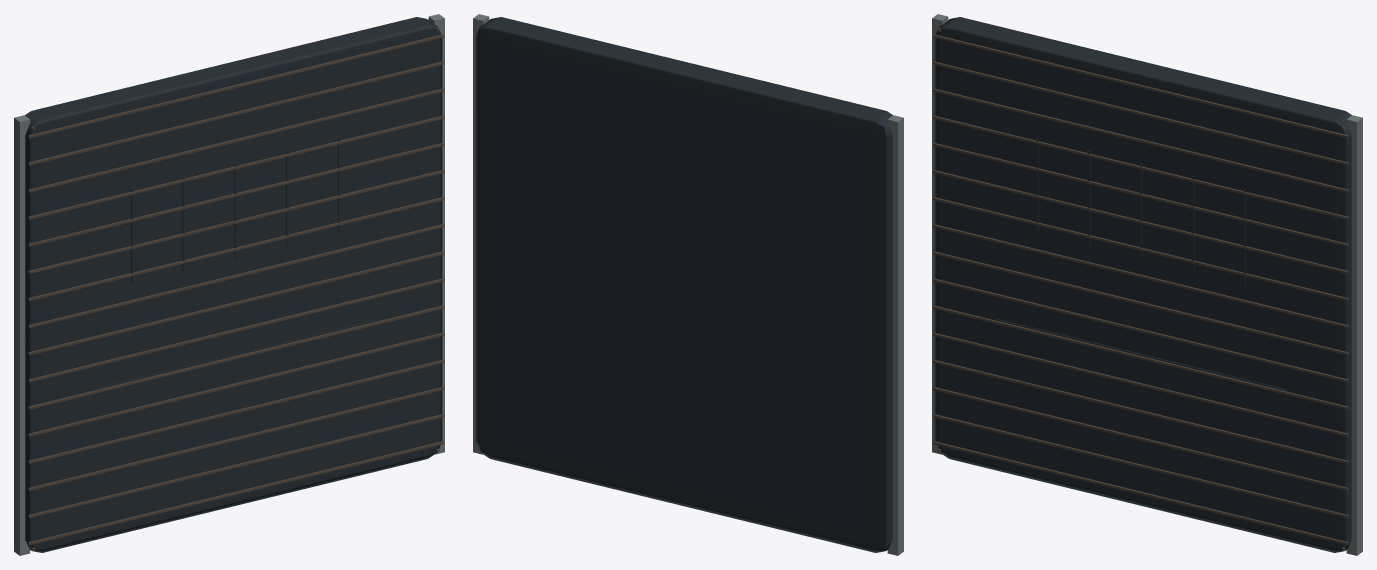
File: blast-door-2.glb
The picture shows the model from 3 angles, left to right: view 1: azimuth 30°, elevation 25°; view 2: azimuth 150°, elevation 25°; view 3: azimuth 330°, elevation 25°; orthographic projection.
Parts seen in each view (by area): view 1: blast-door/1/KR-230-2; view 2: blast-door/1/KR-230-2; view 3: blast-door/1/KR-230-2.
Part boxes in pixels (x1=…): blast-door/1/KR-230-2: x1=14, y1=14, x2=444, y2=555; blast-door/1/KR-230-2: x1=473, y1=14, x2=903, y2=555; blast-door/1/KR-230-2: x1=932, y1=14, x2=1362, y2=555.
Bounding box in the file's own units: 8.2 × 8 × 0.44.
